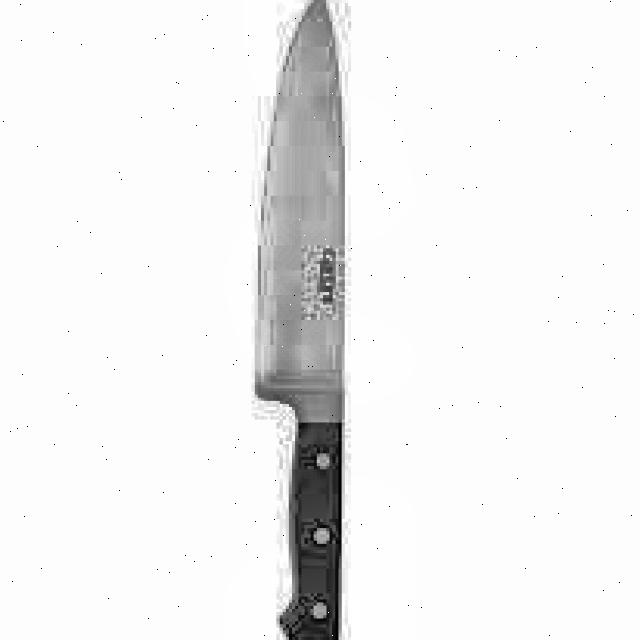knife: (248, 0, 345, 640)
